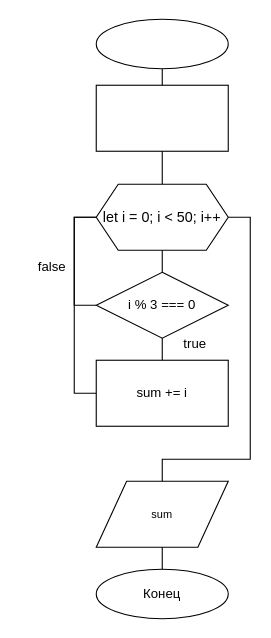
The diagram is 271 pixels wide and 638 high, and some of its shapes have lost their labels. The shapes that lost their labels are listed below. From the top down, each one's centre as x and y in pixels, then its label:
(161,43): Начало
(161,117): let sum = 0;
